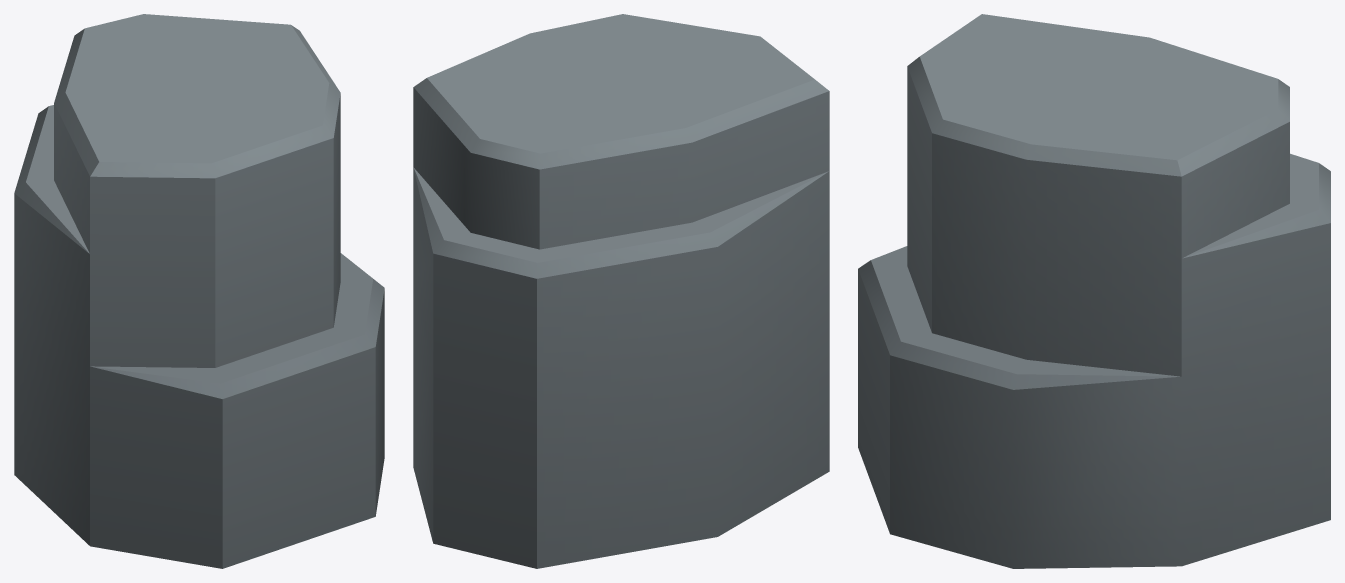
Rendered from Rock_1_I_Color1.glb.
The picture shows the model from 3 angles, left to right: view 1: azimuth 30°, elevation 25°; view 2: azimuth 150°, elevation 25°; view 3: azimuth 270°, elevation 25°; orthographic projection. The views are drawn at different scales.
Visible parts, largest first — view 1: Rock_1_I_Color1; view 2: Rock_1_I_Color1; view 3: Rock_1_I_Color1.
Boxes of the visible parts, x1,y1,x2,y2 form: Rock_1_I_Color1: [14, 14, 384, 568]; Rock_1_I_Color1: [413, 14, 829, 568]; Rock_1_I_Color1: [858, 14, 1330, 568].
Size of the model in its own units: 1.61 by 1.87 by 2.
Materials: 1 (1 with a texture image).
